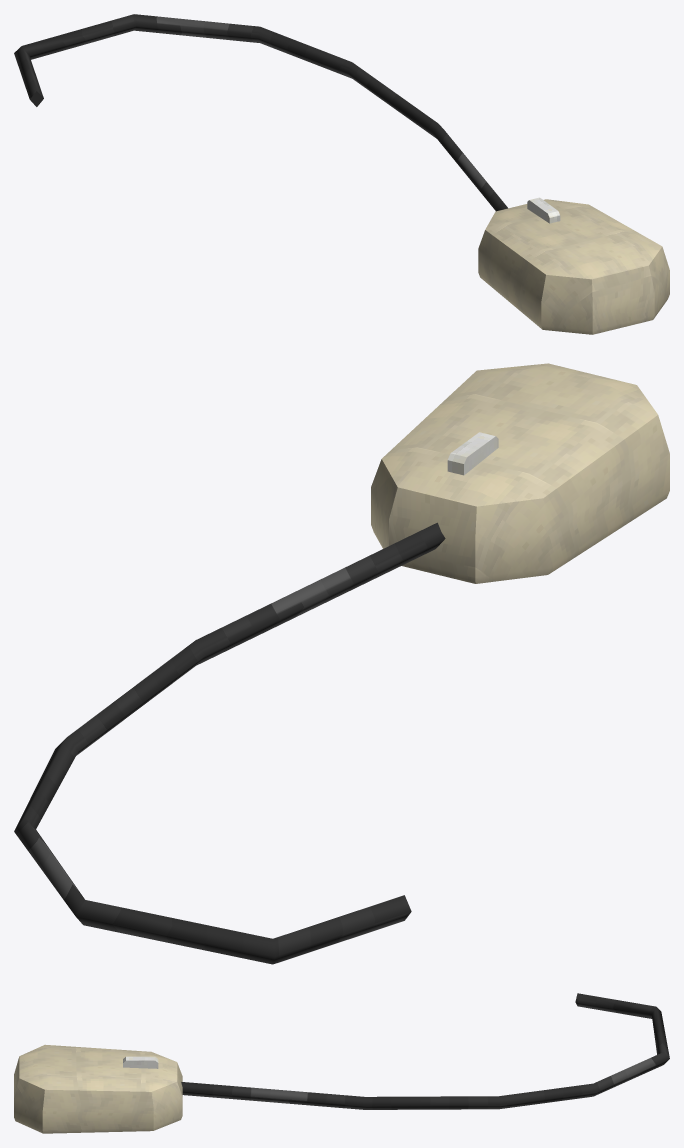
File: SM_Computer_Mouse.fbx
The picture shows the model from 3 angles, top to bottom: view 1: azimuth 30°, elevation 25°; view 2: azimuth 150°, elevation 25°; view 3: azimuth 270°, elevation 25°; orthographic projection. The views are drawn at different scales.
Parts seen in each view (by area): view 1: SM_Computer_Mouse; view 2: SM_Computer_Mouse; view 3: SM_Computer_Mouse.
Boxes of the visible parts, left/top/right/bottom form: SM_Computer_Mouse: left=14, top=14, right=669, bottom=334; SM_Computer_Mouse: left=14, top=363, right=669, bottom=964; SM_Computer_Mouse: left=14, top=993, right=669, bottom=1133.
Size of the model in its own units: 30.08 by 6.27 by 71.43.
Materials: 3 (3 with a texture image).
